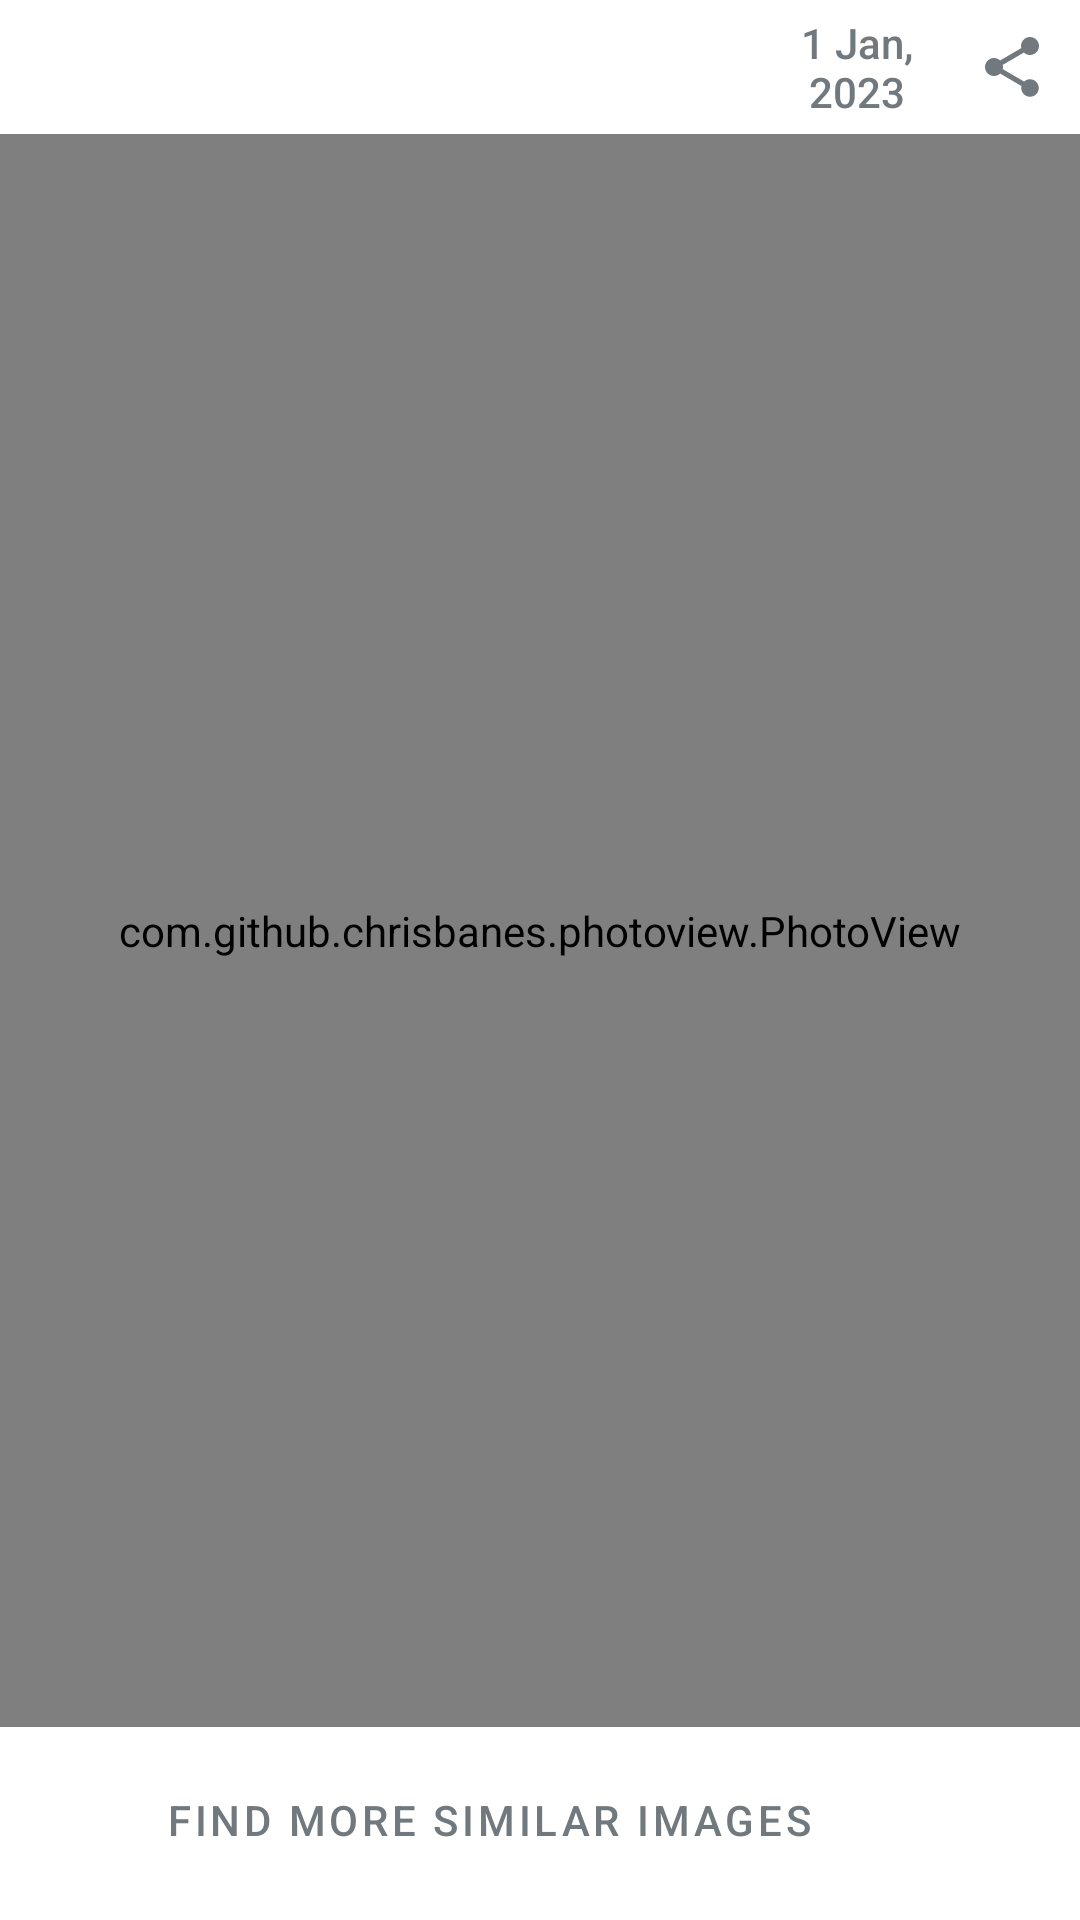

Named icons in this screenshot (1080 x 1920) and their centers, (x,y):
Share Icon: (1012,67)
